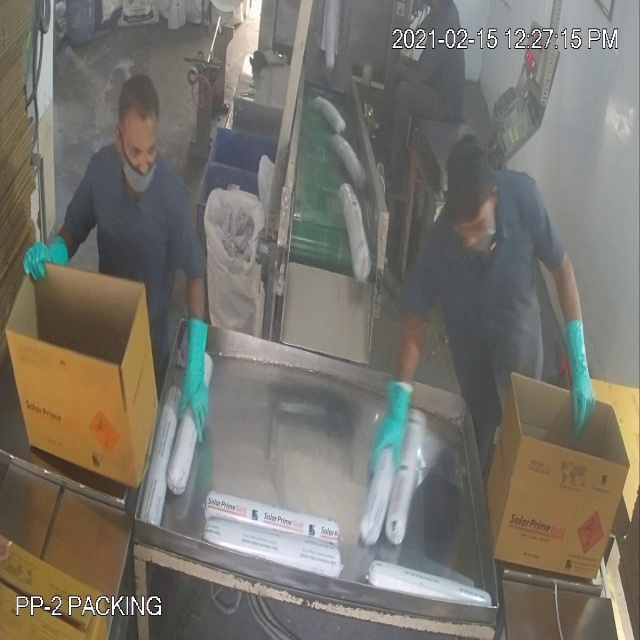Guantes: (156, 276, 220, 453), (355, 365, 416, 484), (564, 286, 604, 436), (15, 221, 80, 294)
Sin_guantes: (379, 45, 438, 105)
